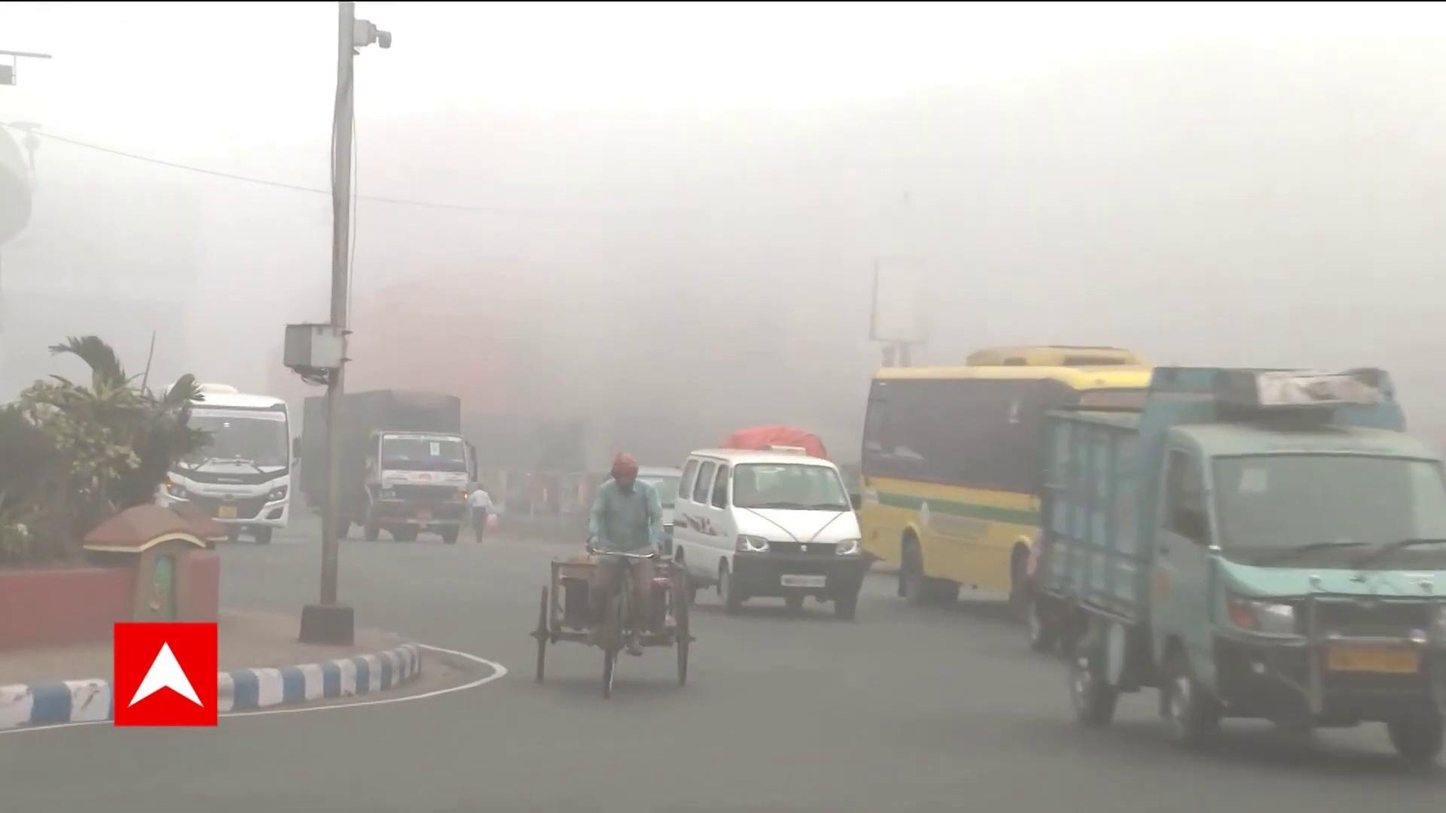Bus: (857, 337, 1151, 605), (145, 382, 295, 553)
Car: (659, 445, 870, 621)
Truck: (1036, 377, 1446, 761), (296, 388, 479, 549)
